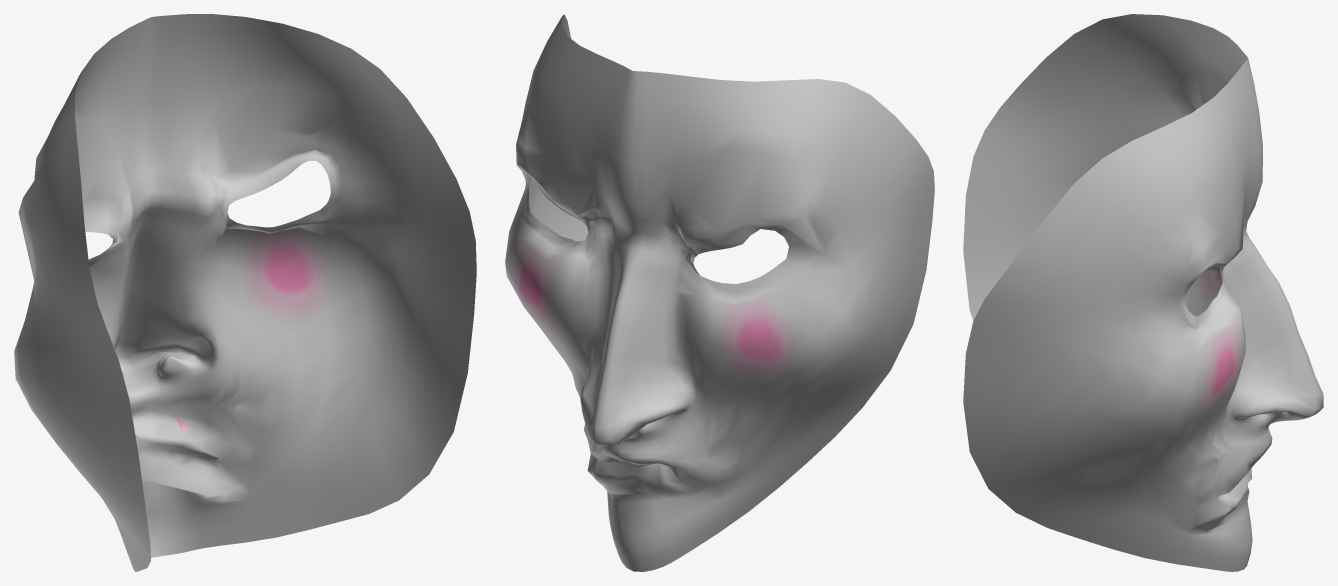
File: angry_mask_001 (1).fbx
The picture shows the model from 3 angles, left to right: view 1: azimuth 30°, elevation 25°; view 2: azimuth 150°, elevation 25°; view 3: azimuth 270°, elevation 25°; orthographic projection. The views are drawn at different scales.
Parts seen in each view (by area): view 1: Angry mask.001; view 2: Angry mask.001; view 3: Angry mask.001.
Part boxes in pixels (x1=…): Angry mask.001: x1=14, y1=14, x2=476, y2=571; Angry mask.001: x1=505, y1=14, x2=934, y2=571; Angry mask.001: x1=963, y1=14, x2=1323, y2=571.
Bounding box in the file's own units: 201 × 278 × 179.
1 material, 1 textured.
